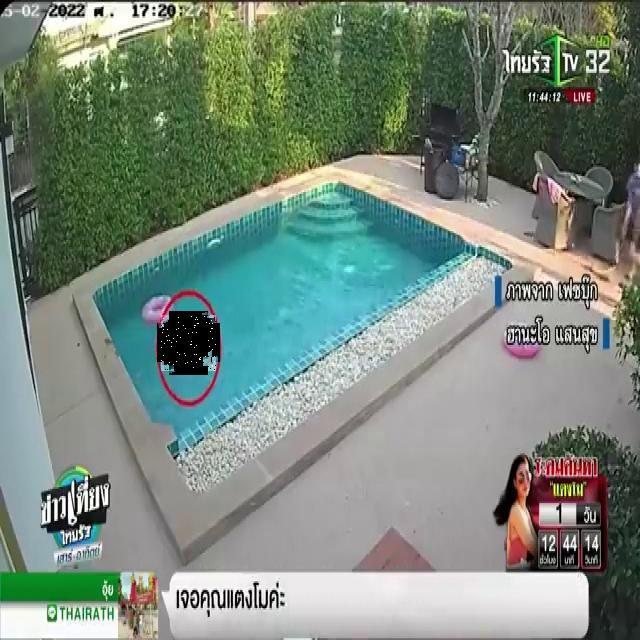Out of Water: (161, 315, 216, 371)
